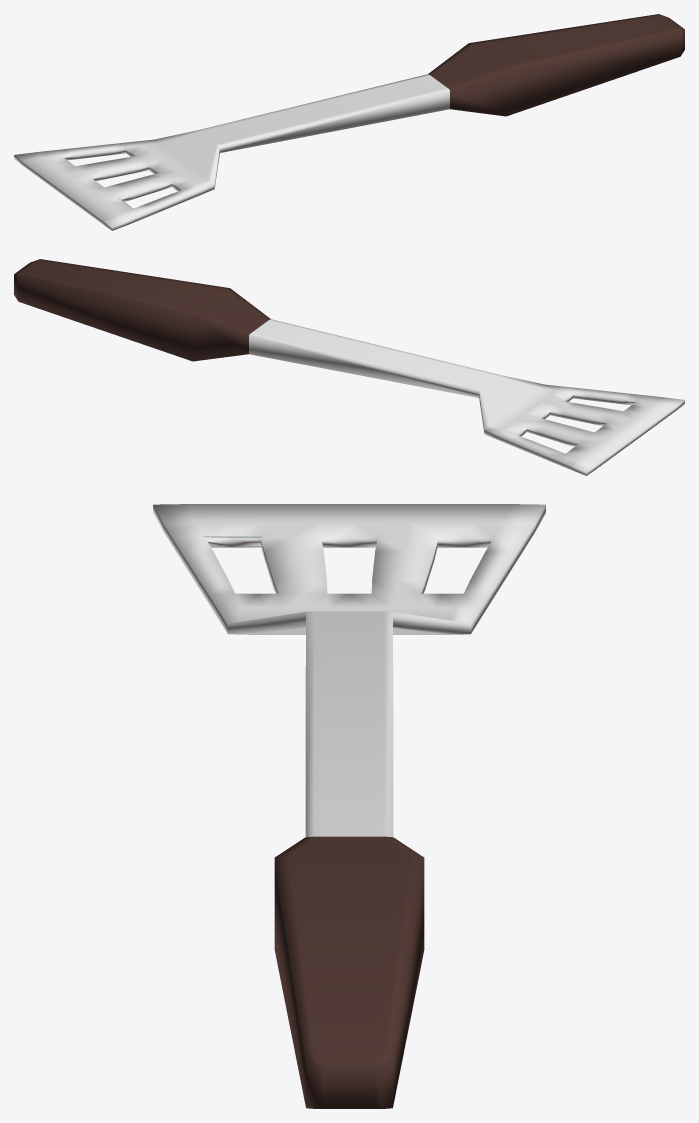
Rendered from Spatula.fbx.
3 views of the same model, one above another, from view 1: azimuth 30°, elevation 25°; view 2: azimuth 150°, elevation 25°; view 3: azimuth 270°, elevation 25° (orthographic). The views are drawn at different scales.
Parts seen in each view (by area): view 1: Spatular; view 2: Spatular; view 3: Spatular.
Part boxes in pixels (box(x1,y1,x2,y2)): Spatular: box(14, 14, 684, 230); Spatular: box(14, 259, 684, 475); Spatular: box(153, 504, 545, 1108).
Size of the model in its own units: 519 by 37.7 by 144.
